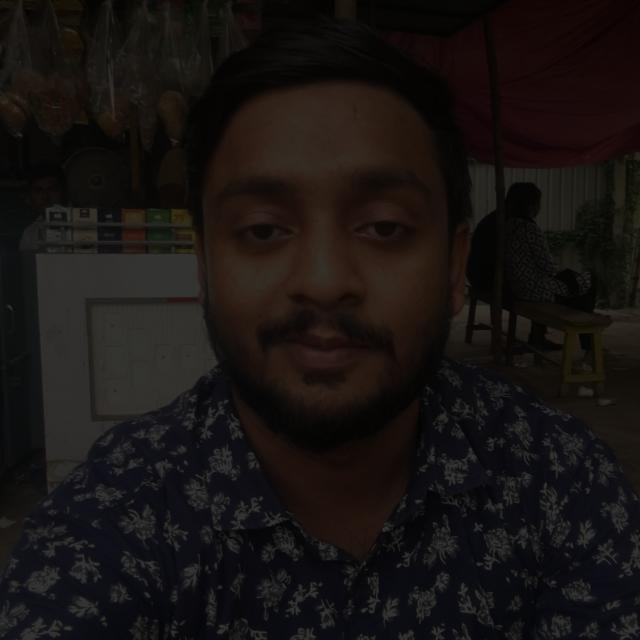Natural: (102, 62, 534, 445)
